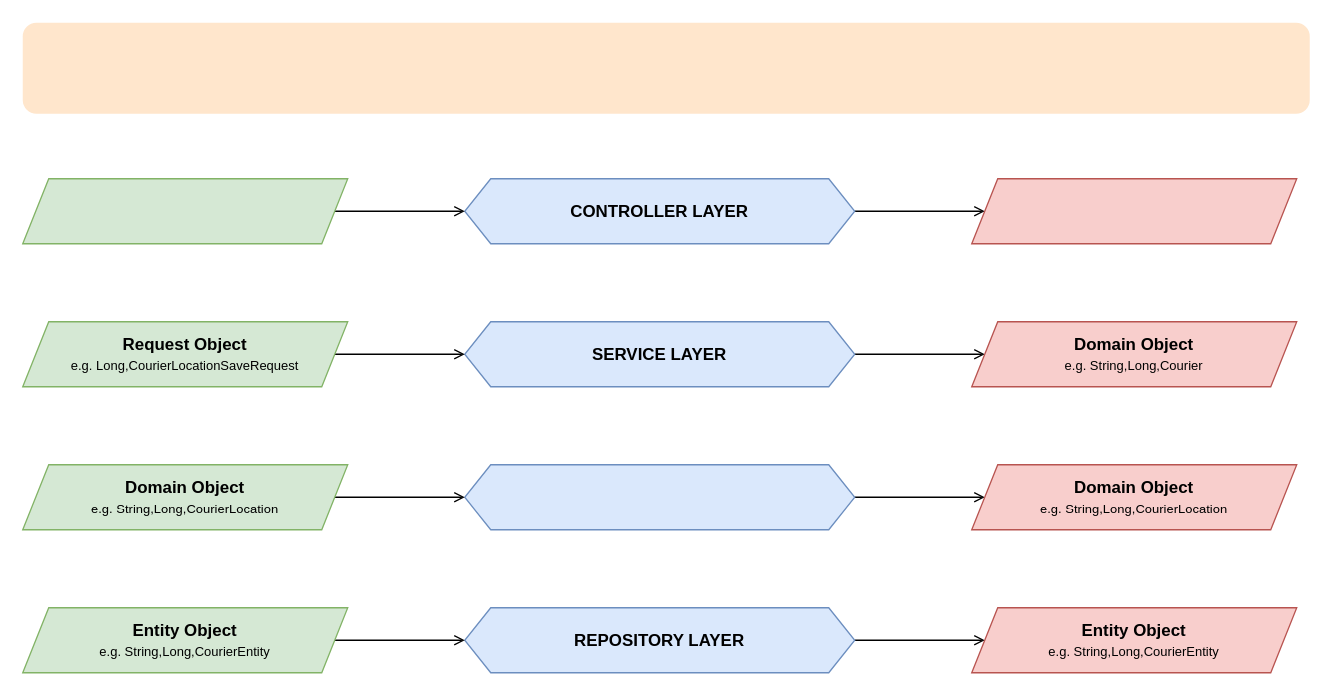
Image size: 1333x696. Some labels were removed from this diagram. The shapes that lost their labels are listed below. From the top down, each one's centre as x and y in pixels, then its label:
At point (665, 67): "HexaLayered Architecture".
At point (184, 210): "Request Object e.g. CourierLocationSaveRequest".
At point (1133, 210): "Response Object e.g. CourierDistanceResponse".
At point (659, 496): "PORT/ADAPTER LAYER".
